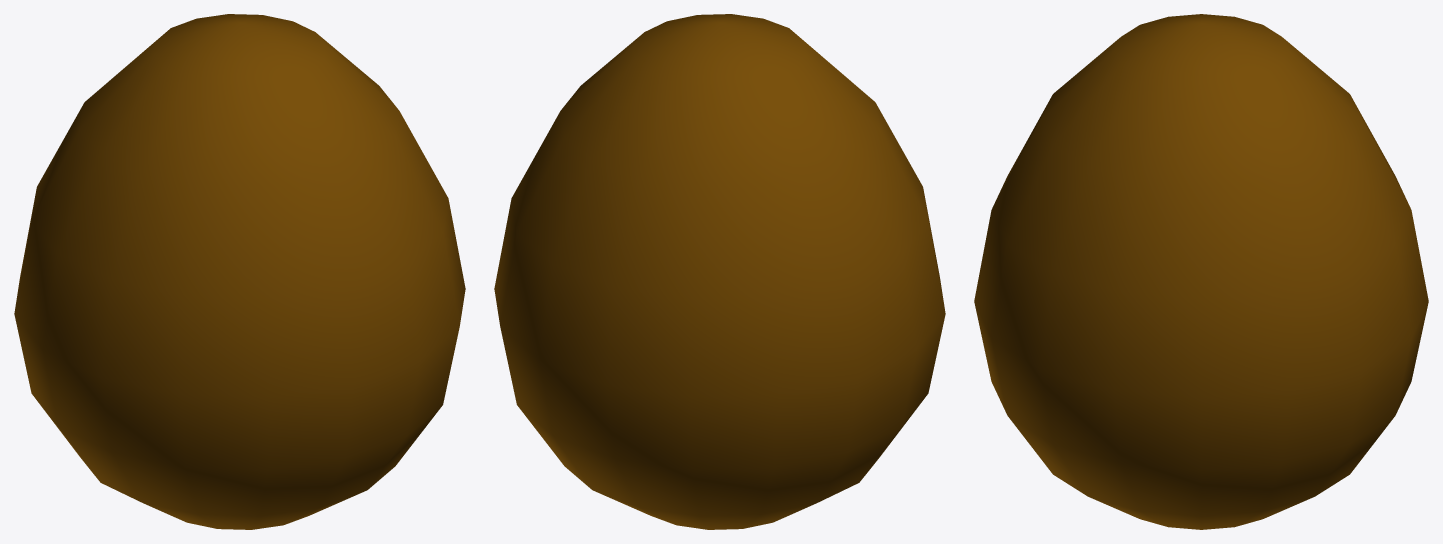
Rendered from testa_nera.glb.
3 renders of one model, left to right at view 1: azimuth 30°, elevation 25°; view 2: azimuth 150°, elevation 25°; view 3: azimuth 270°, elevation 25°, orthographic.
Parts seen in each view (by area): view 1: mastro_testa.002; view 2: mastro_testa.002; view 3: mastro_testa.002.
Part boxes in pixels (x1,y1,x2,y2): mastro_testa.002: [14, 14, 465, 529]; mastro_testa.002: [494, 14, 945, 529]; mastro_testa.002: [974, 14, 1428, 529].
Bounding box in the file's own units: 0.2118 × 0.2496 × 0.2118.
